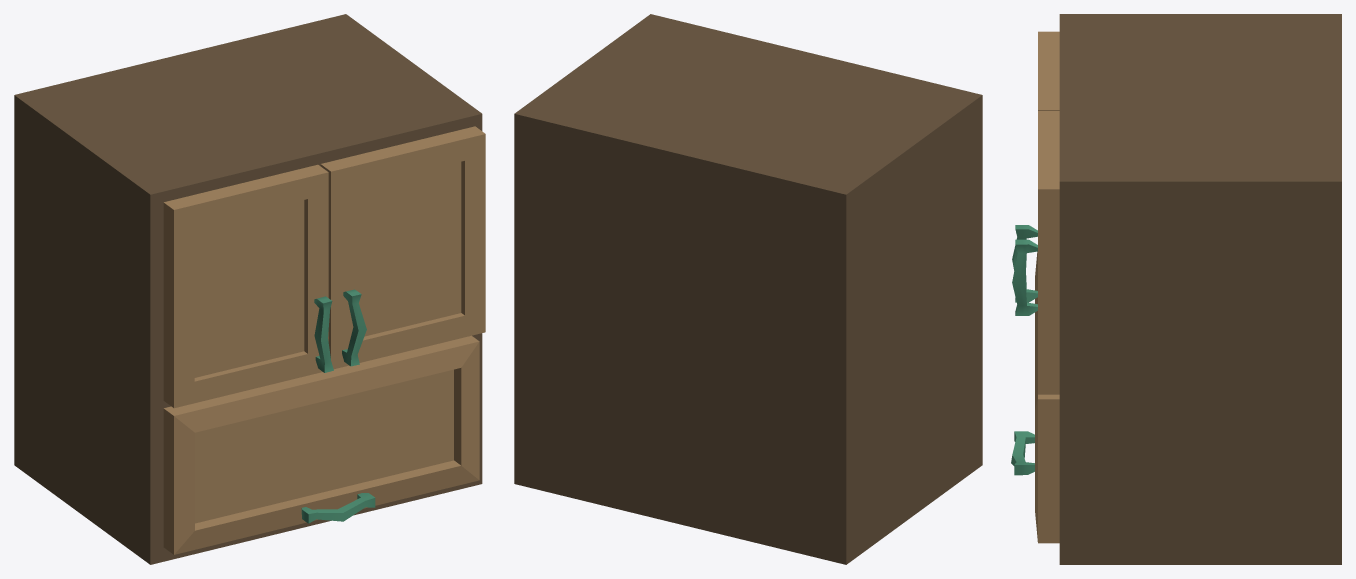
The model's file is cupboard_2_low.fbx.
3 views of the same model, side by side, from view 1: azimuth 30°, elevation 25°; view 2: azimuth 150°, elevation 25°; view 3: azimuth 270°, elevation 25° (orthographic). The views are drawn at different scales.
Visible parts, largest first — view 1: cupboard_door2_low, cupboard_base_low, handle_door_2_low; view 2: cupboard_base_low; view 3: cupboard_base_low, cupboard_door2_low, handle_door_2_low.
Boxes of the visible parts, box(x1,y1,x2,y2) form: cupboard_door2_low: box(163, 126, 485, 554); cupboard_base_low: box(14, 14, 482, 564); handle_door_2_low: box(301, 289, 375, 523); cupboard_base_low: box(514, 14, 982, 564); cupboard_base_low: box(1059, 14, 1341, 564); cupboard_door2_low: box(1035, 31, 1059, 543); handle_door_2_low: box(1011, 225, 1037, 475).
Size of the model in its own units: 5.9 by 6.29 by 4.92.
